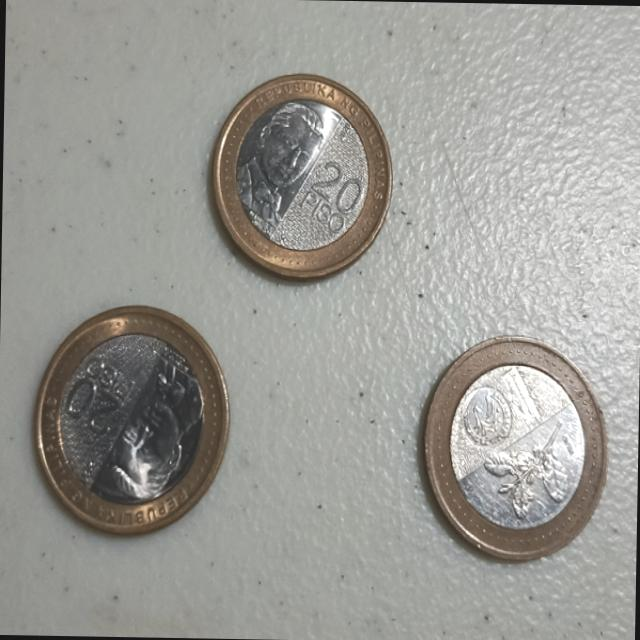20_peso: (36, 305, 227, 532), (426, 337, 606, 560), (213, 73, 391, 279)
